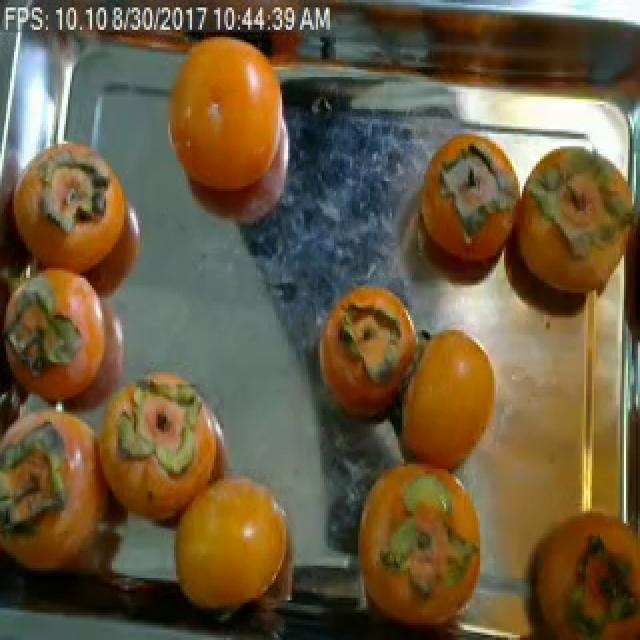Fruit: (332, 441, 490, 640), (154, 447, 314, 635), (152, 12, 286, 236), (372, 305, 516, 511), (302, 268, 430, 444), (120, 357, 246, 504)
